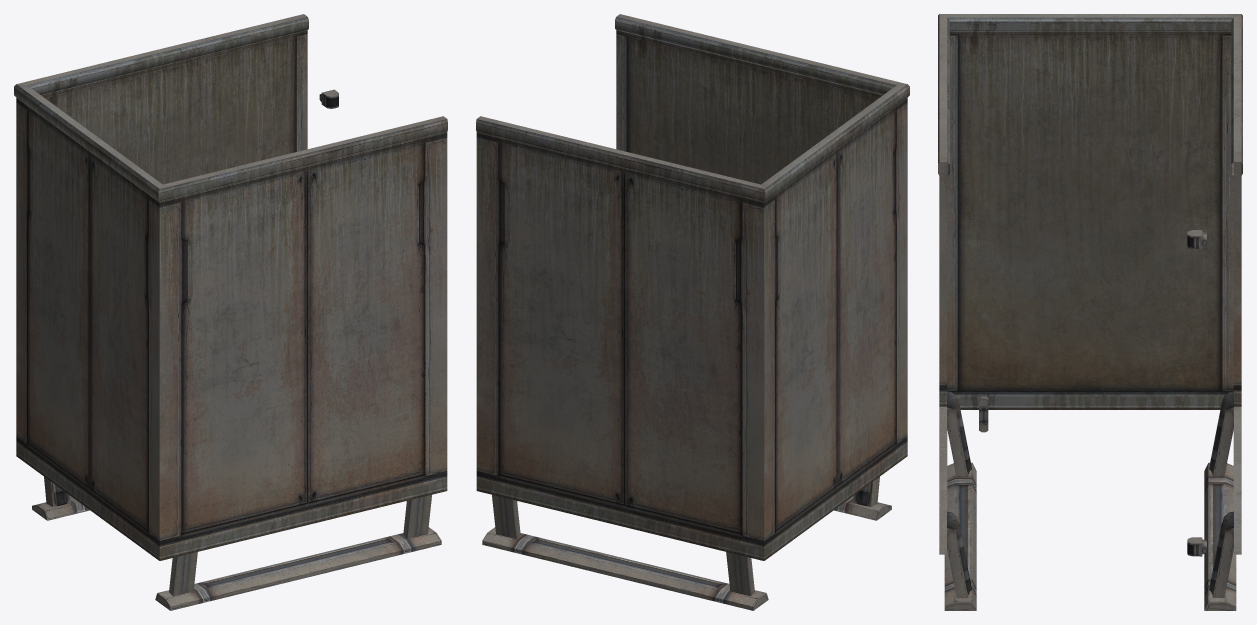
Rendered from toilet_stall_wall.DAE.
3 views of the same model, side by side, from view 1: azimuth 30°, elevation 25°; view 2: azimuth 150°, elevation 25°; view 3: azimuth 270°, elevation 25° (orthographic). The views are drawn at different scales.
Visible parts, largest first — view 1: Mesh_Stall; view 2: Mesh_Stall; view 3: Mesh_Stall.
Boxes of the visible parts, bbox=[...] form: Mesh_Stall: bbox=[14, 14, 447, 610]; Mesh_Stall: bbox=[476, 14, 909, 610]; Mesh_Stall: bbox=[938, 14, 1242, 610].
Size of the model in its own units: 2.41 by 3.27 by 2.
